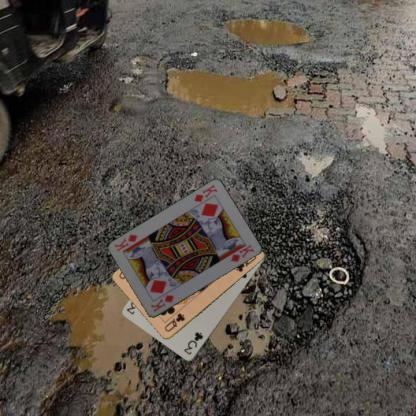3c: (182, 329, 204, 356)
Kd: (148, 292, 176, 314), (192, 182, 219, 203)
Qc: (162, 311, 186, 333)
